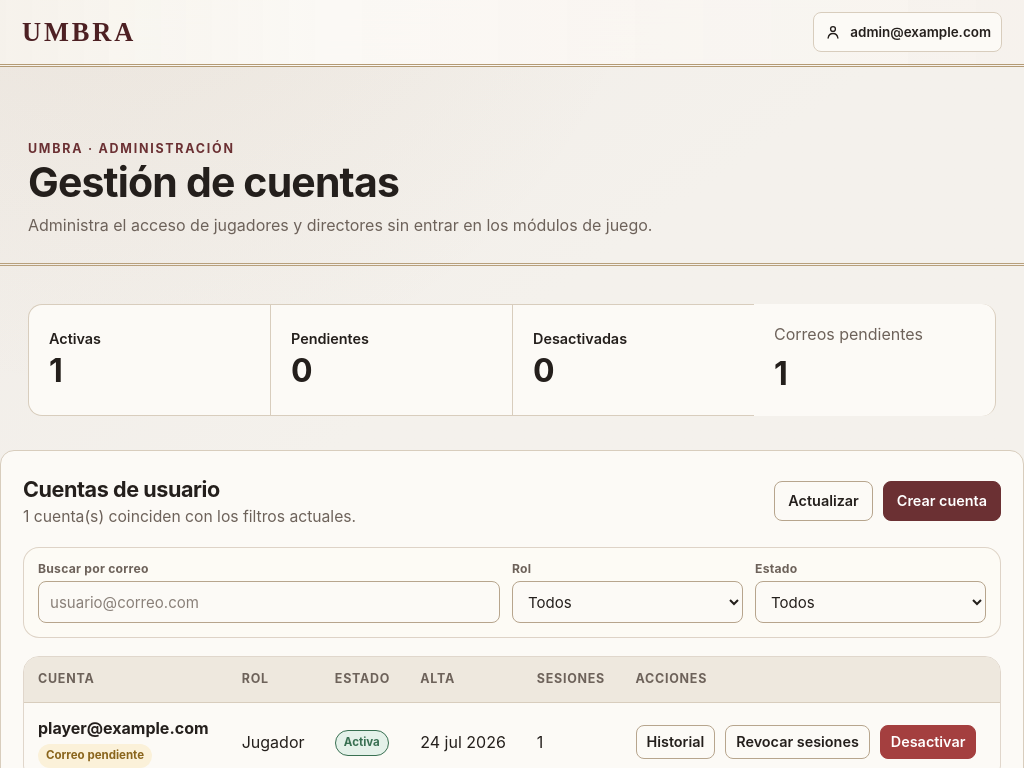
Scenario: SuperAdminDashboardView › opens a dedicated creation dialog with only email and managed role
Click the button "Crear cuenta". click: click(942, 501)
box: 883,481 -> 1001,521
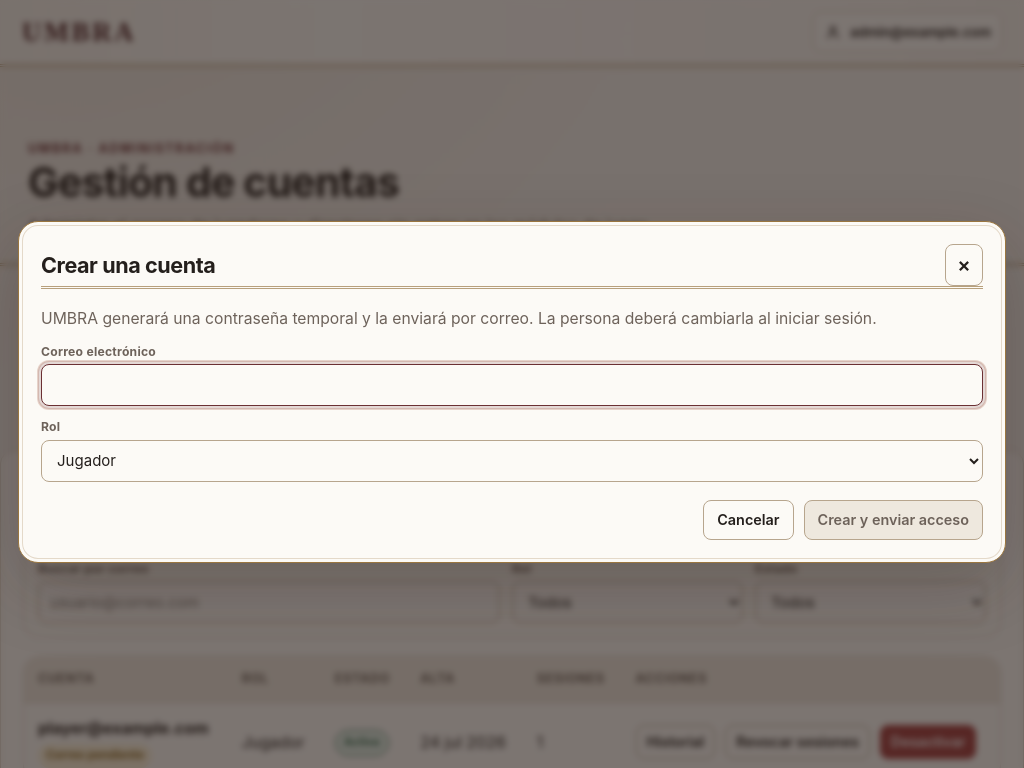
Expected: the dialog "Crear una cuenta" is shown, 18,221 -> 1006,563
Expected: the field labelled "Correo electrónico" is shown, 41,364 -> 983,406
Expected: the dropdown labelled "Rol" shows "Jugador", 41,440 -> 983,482
